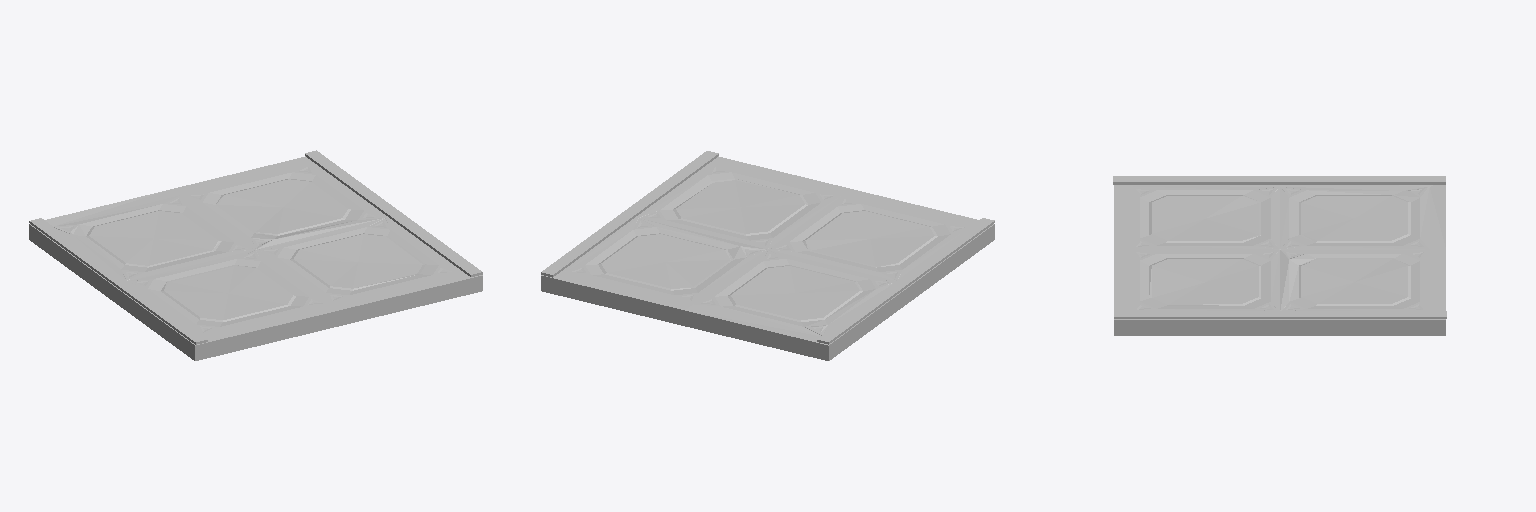
File: Elevator 1.obj
3 renders of one model, left to right at view 1: azimuth 30°, elevation 25°; view 2: azimuth 150°, elevation 25°; view 3: azimuth 270°, elevation 25°, orthographic.
Visible parts, largest first — view 1: Cube.016_Cube.023; view 2: Cube.016_Cube.023; view 3: Cube.016_Cube.023.
Boxes of the visible parts, <box> form: Cube.016_Cube.023: <box>29,150,482,360</box>; Cube.016_Cube.023: <box>541,151,994,360</box>; Cube.016_Cube.023: <box>1113,176,1446,335</box>.
Size of the model in its own units: 7.96 by 0.5025 by 7.97.